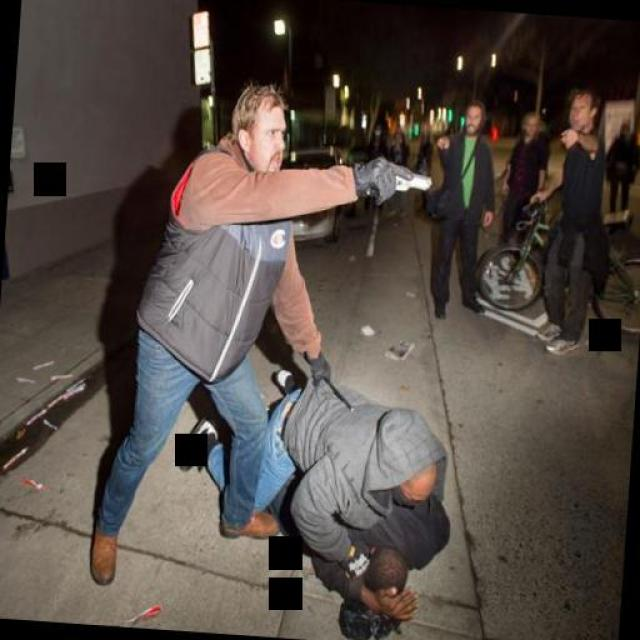gun: (358, 156, 438, 206)
